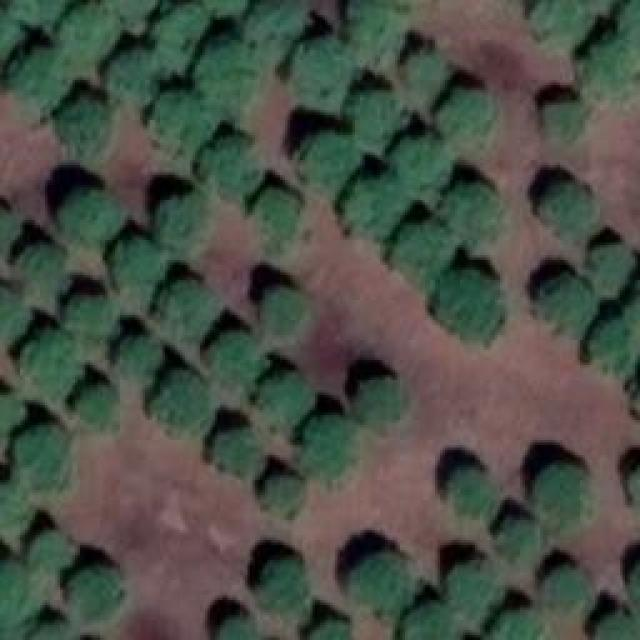Tree: (572, 28, 640, 103), (433, 270, 506, 338), (350, 548, 418, 621), (290, 35, 353, 113), (10, 48, 78, 118), (527, 463, 595, 533), (205, 40, 265, 118), (145, 88, 210, 158), (20, 327, 83, 395), (148, 370, 213, 435), (152, 3, 210, 73), (200, 133, 263, 196), (60, 98, 120, 163), (255, 370, 315, 433), (353, 0, 408, 68), (443, 85, 498, 153), (445, 465, 503, 528), (248, 0, 308, 60), (55, 0, 120, 55), (158, 192, 218, 250), (305, 417, 365, 475), (450, 185, 510, 243), (18, 425, 73, 488), (158, 280, 221, 335), (445, 565, 508, 620), (340, 183, 405, 236), (395, 218, 455, 273), (535, 275, 595, 330), (303, 135, 358, 193), (398, 137, 453, 195), (258, 285, 311, 345), (358, 93, 408, 156), (108, 237, 173, 285), (540, 175, 593, 233), (0, 559, 42, 632), (73, 565, 128, 620), (18, 245, 73, 300), (60, 190, 120, 240), (253, 193, 306, 248), (213, 330, 266, 385), (255, 555, 305, 613), (213, 425, 266, 478), (355, 375, 408, 428), (540, 565, 590, 618), (405, 45, 453, 98), (587, 318, 635, 371), (113, 335, 168, 380), (28, 528, 81, 571), (112, 53, 160, 96), (262, 475, 310, 518), (80, 385, 125, 430), (68, 293, 118, 333), (400, 610, 465, 640), (588, 243, 631, 288), (0, 477, 32, 534), (545, 98, 590, 138), (0, 288, 30, 343), (487, 612, 545, 640), (498, 518, 533, 563), (0, 388, 25, 443), (595, 610, 640, 640), (0, 12, 25, 60), (310, 617, 355, 640), (217, 617, 257, 640), (0, 210, 22, 247)
